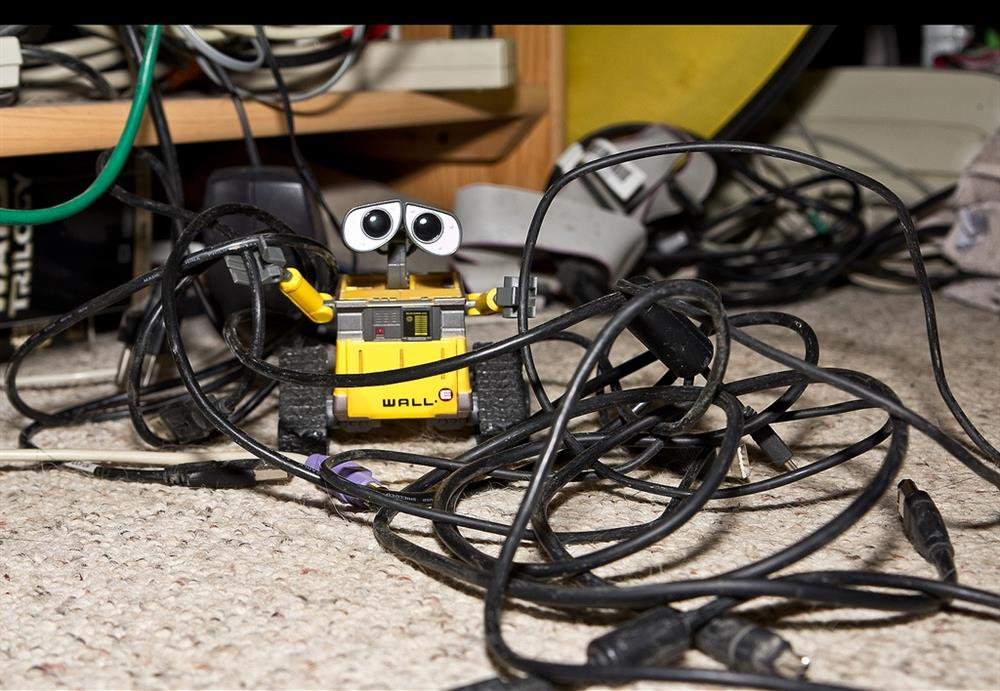walle: (220, 196, 538, 451)
